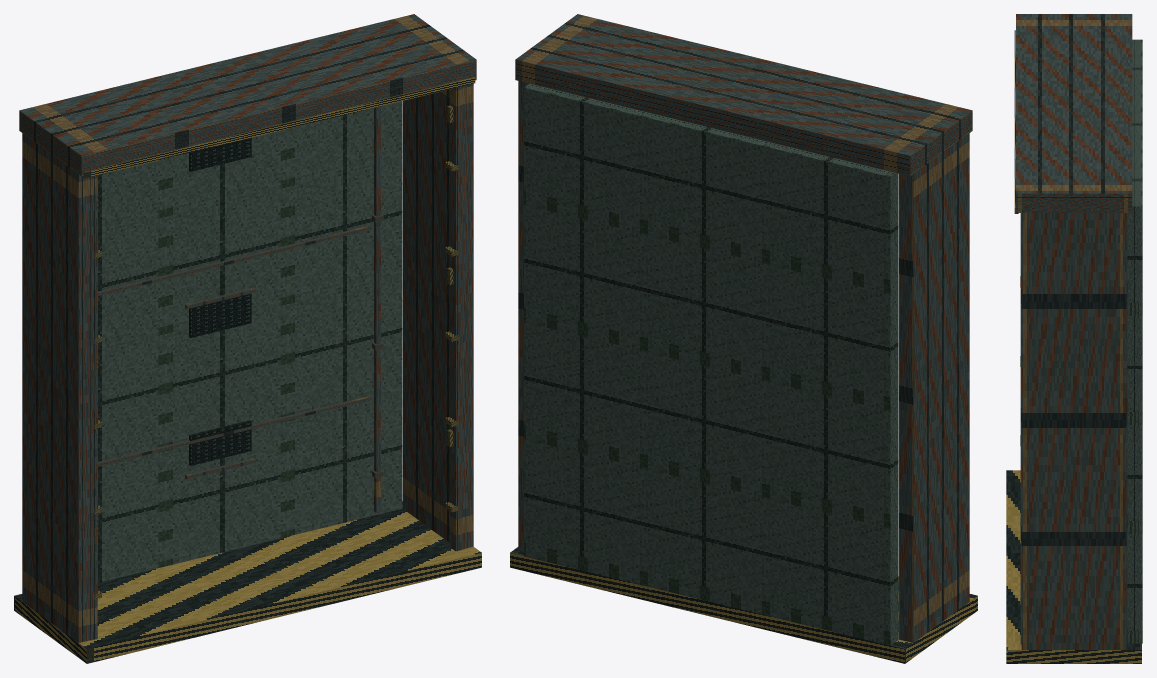
Rendered from shaft.glb.
3 views of the same model, side by side, from view 1: azimuth 30°, elevation 25°; view 2: azimuth 150°, elevation 25°; view 3: azimuth 270°, elevation 25° (orthographic). The views are drawn at different scales.
Parts seen in each view (by area): view 1: shaft_back, shaft_header, shaft_left, shaft_floor, shaft_right, shaft_rail_right, shaft_vents, shaft_braces, shaft_rail_left, shaft_pipes; view 2: shaft_back, shaft_header, shaft_left, shaft_floor, shaft_right; view 3: shaft_right, shaft_header, shaft_back, shaft_floor, shaft_rail_right, shaft_pipes.
Boxes of the visible parts, x1,y1,x2,y2 form: shaft_back: (97,101,402,582); shaft_header: (19,14,476,178); shaft_left: (22,133,90,642); shaft_floor: (14,501,481,663); shaft_right: (403,83,473,549); shaft_rail_right: (450,86,462,551); shaft_vents: (189,138,251,465); shaft_braces: (94,161,458,599); shaft_rail_left: (90,175,97,640); shaft_pipes: (372,106,383,512); shaft_back: (524,83,898,645); shaft_header: (515,14,972,176); shaft_left: (899,133,969,642); shaft_floor: (510,546,977,663); shaft_right: (518,81,529,547); shaft_right: (1021,213,1126,649); shaft_header: (1014,14,1132,213); shaft_back: (1127,39,1142,643); shaft_floor: (1006,470,1141,663); shaft_rail_right: (1020,213,1021,644); shaft_pipes: (1126,213,1127,628).
Size of the model in its own units: 9.7 by 11.83 by 3.12.
1 material, 1 textured.
